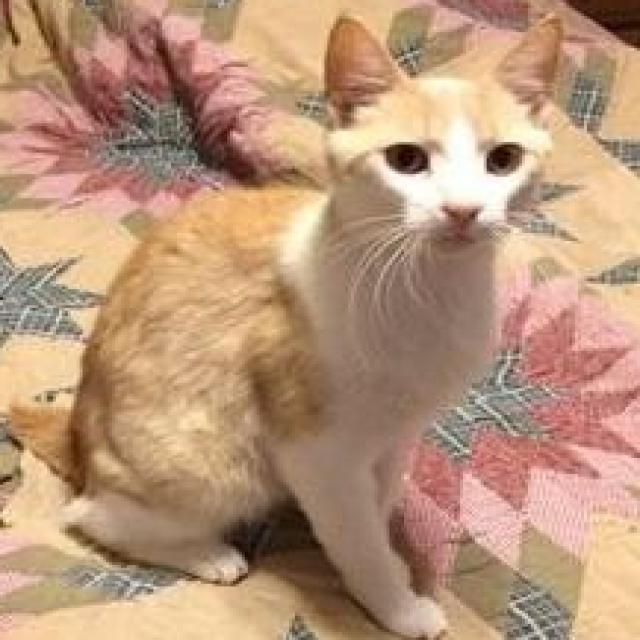American Bobtail: (0, 8, 569, 637)
